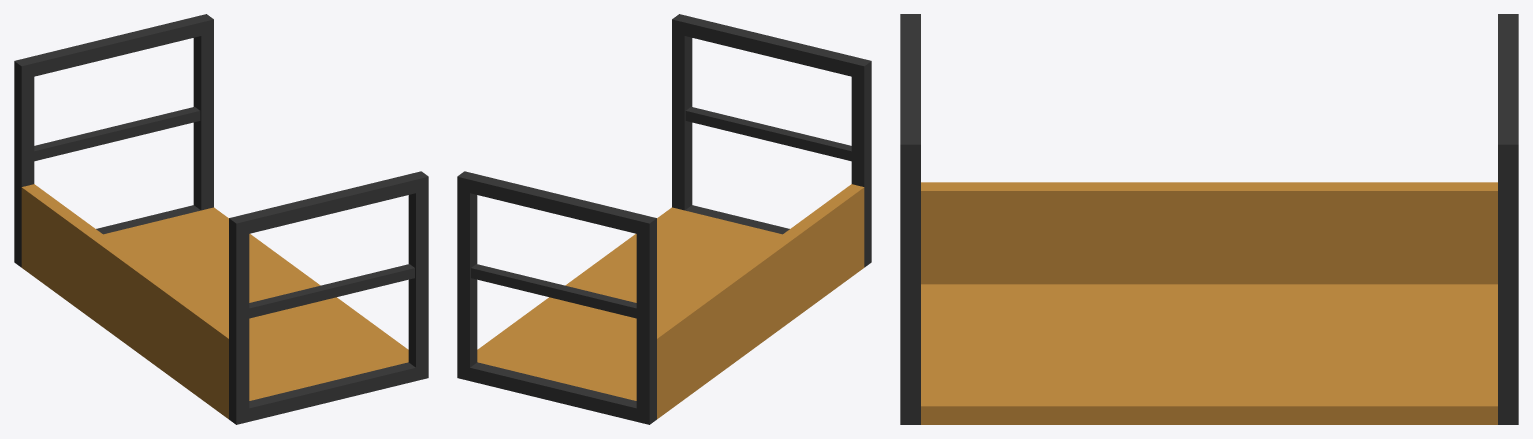
Rendered from legFrameBookcase_tail.fbx.
3 views of the same model, side by side, from view 1: azimuth 30°, elevation 25°; view 2: azimuth 150°, elevation 25°; view 3: azimuth 270°, elevation 25° (orthographic). The views are drawn at different scales.
Visible parts, largest first — view 1: legFrameBookcase_tail; view 2: legFrameBookcase_tail; view 3: legFrameBookcase_tail.
Part boxes in pixels (bbox=[...]): legFrameBookcase_tail: bbox=[14, 14, 428, 424]; legFrameBookcase_tail: bbox=[457, 14, 871, 424]; legFrameBookcase_tail: bbox=[900, 14, 1518, 424].
Bounding box in the file's own units: 30 × 30 × 60.
